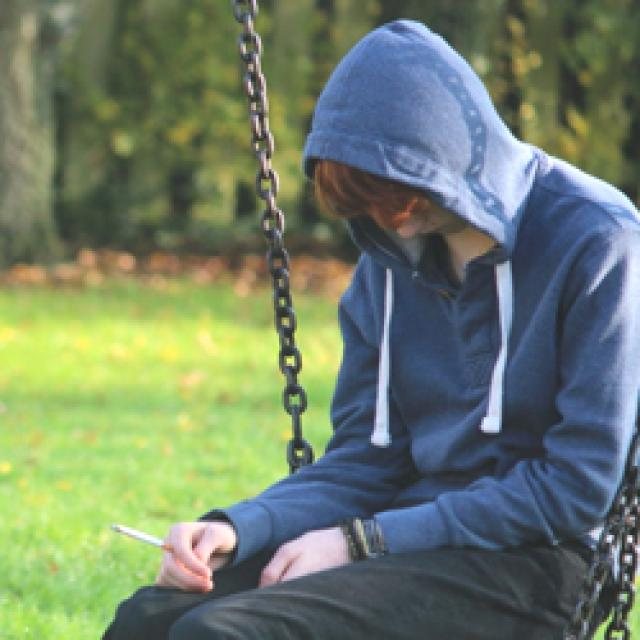Smooking: (106, 518, 178, 557)
